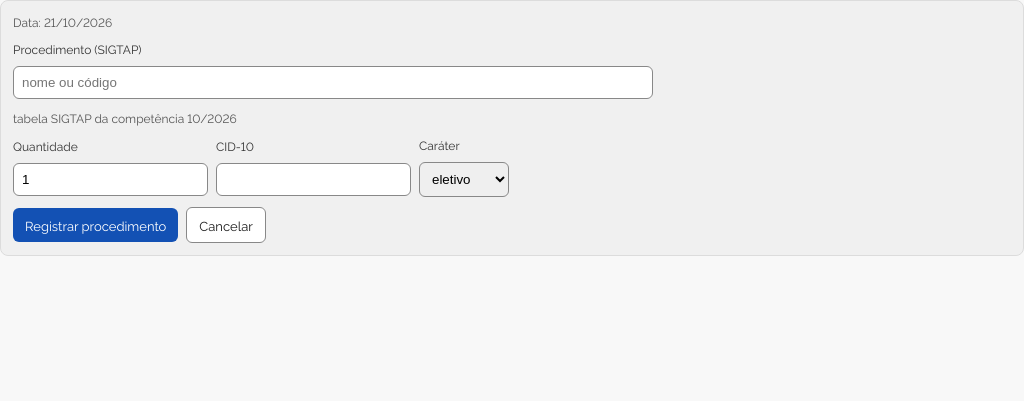
Test: ProcedureForm › sem procedimento escolhido não envia; 422 do api vira frase e o formulário fica
Click the button "Registrar procedimento" at (96, 225), box [13,208,178,242]
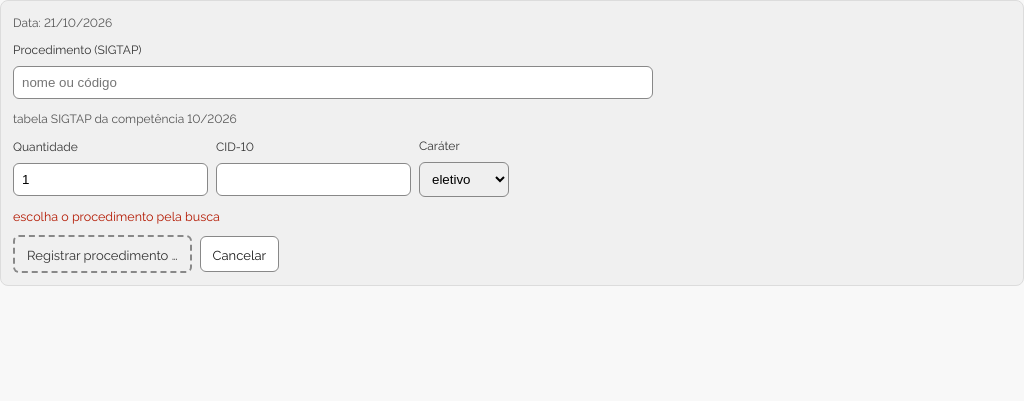
expect the message reads "escolha o procedimento pela busca": met, box [13,207,220,224]
Type "urgencia" into the field labelled "Procedimento (SIGTAP)" at (333, 82), box [13,66,653,99]
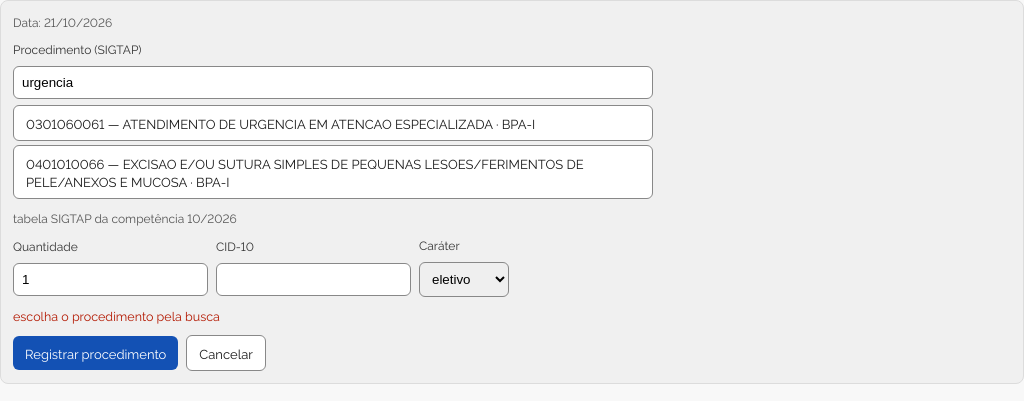
Click the 1st button at (333, 123), box [13,105,653,141]
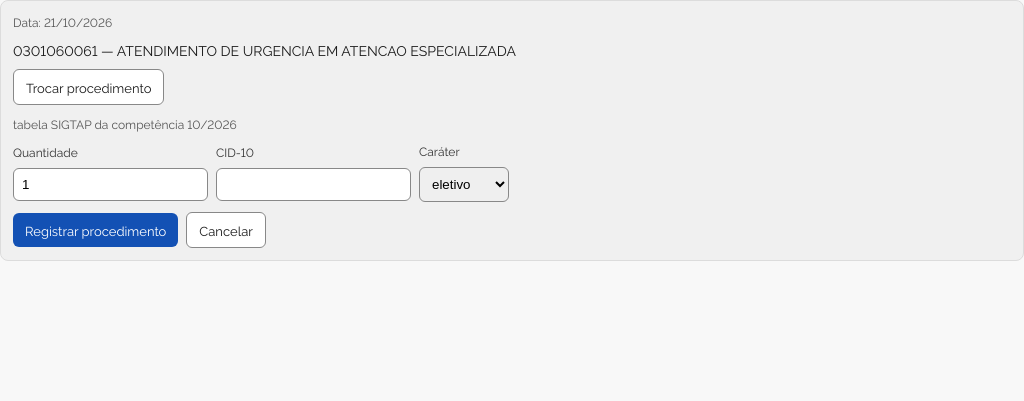
Click the button "Registrar procedimento" at (96, 230), box [13,214,178,248]
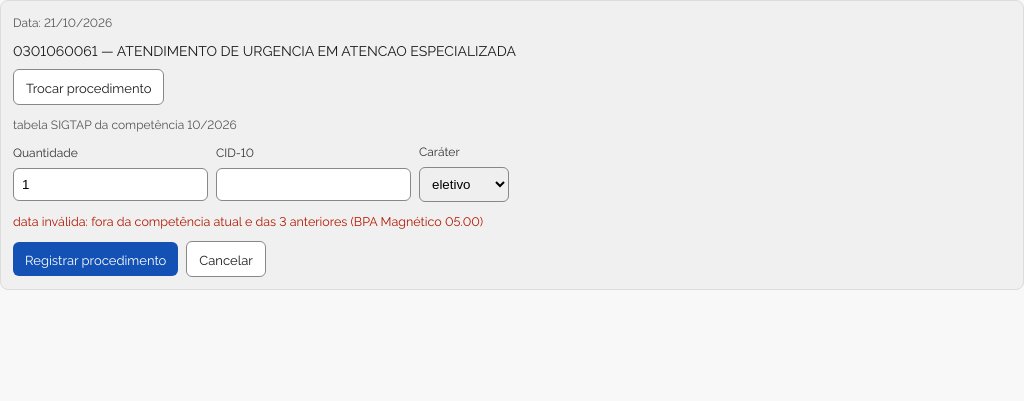
expect the text "0301060061 — ATENDIMENTO DE URGENCIA EM ATENCAO ESPECIALIZADA" is shown: met, box [13,40,516,61]
expect the message shows "data inválida: fora da competência atual e das 3 anteriores (BPA Magnético 05.00)": met, box [13,212,483,230]
